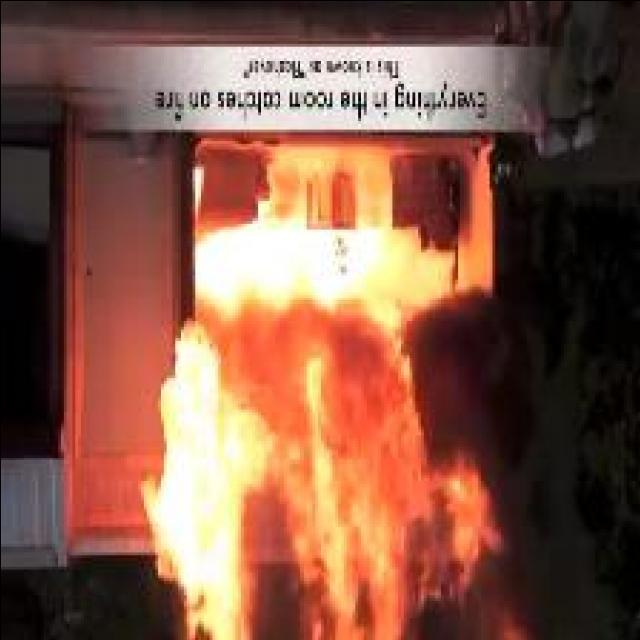Fire: (140, 194, 526, 640)
